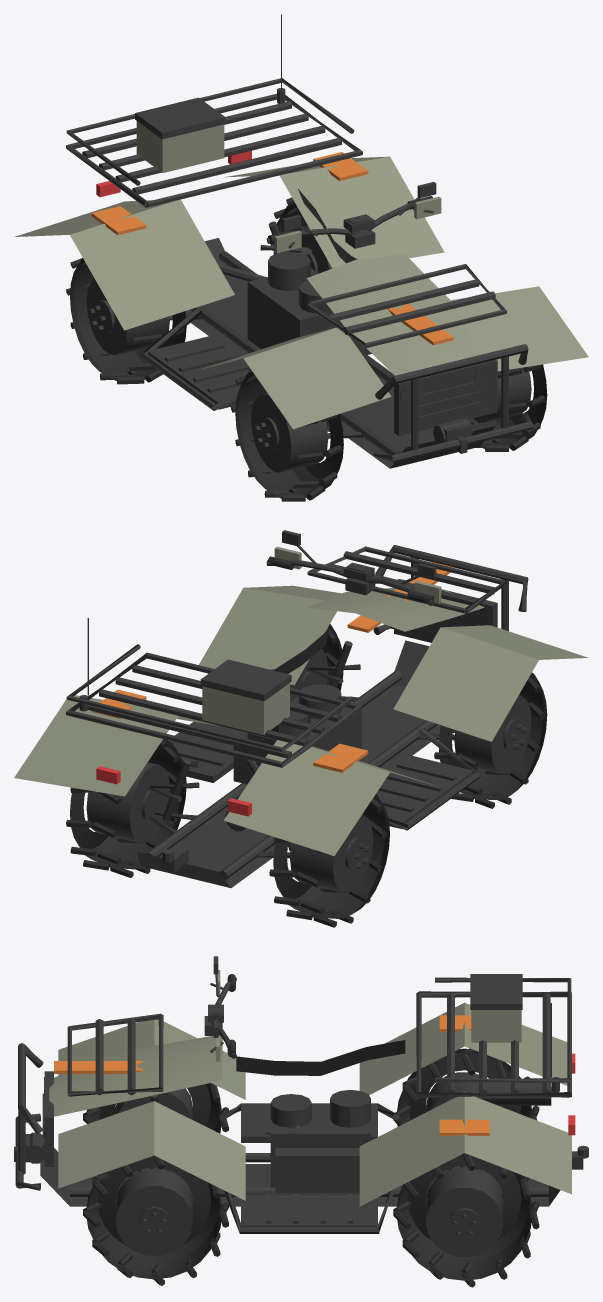
File: quad.glb
3 views of the same model, one above another, from view 1: azimuth 30°, elevation 25°; view 2: azimuth 150°, elevation 25°; view 3: azimuth 270°, elevation 25° (orthographic). The views are drawn at different scales.
Parts seen in each view (by area): view 1: body, wheel_fr, wheel_rr, wheel_fl, handlebar, wheel_rl; view 2: body, wheel_rr, wheel_rl, wheel_fr, handlebar, wheel_fl; view 3: body, wheel_rl, wheel_fl, wheel_rr, wheel_fr, handlebar.
Part boxes in pixels (<box>): body: <box>15,14,588,468</box>; wheel_fr: <box>231,366,343,501</box>; wheel_rr: <box>66,258,186,384</box>; wheel_fl: <box>468,364,547,451</box>; handlebar: <box>266,182,441,253</box>; wheel_rl: <box>270,197,332,273</box>; body: <box>14,545,588,887</box>; wheel_rr: <box>269,794,389,927</box>; wheel_rl: <box>66,739,186,877</box>; wheel_fr: <box>434,672,547,808</box>; handlebar: <box>266,530,441,605</box>; wheel_fl: <box>290,624,343,701</box>; body: <box>14,974,588,1233</box>; wheel_rl: <box>393,1153,539,1287</box>; wheel_fl: <box>83,1155,228,1285</box>; wheel_rr: <box>393,1048,539,1126</box>; wheel_fr: <box>83,1083,228,1133</box>; handlebar: <box>204,956,236,1061</box>.
Size of the model in its own units: 1.56 by 1.32 by 2.52.
